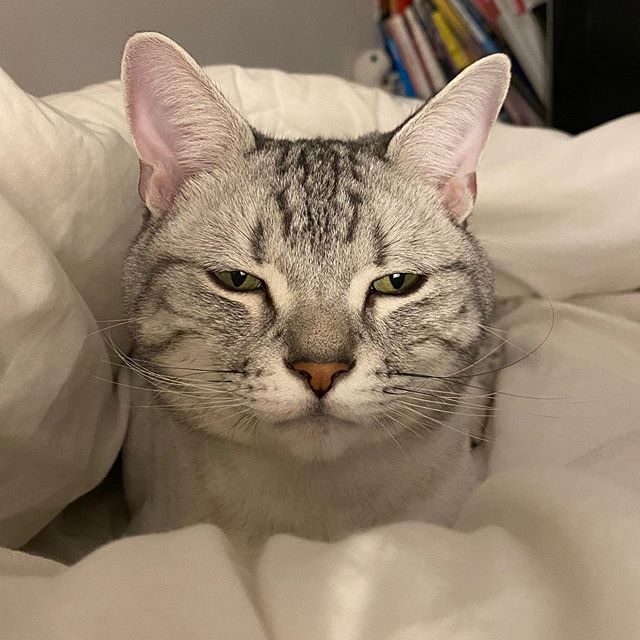cat: (121, 23, 510, 454)
